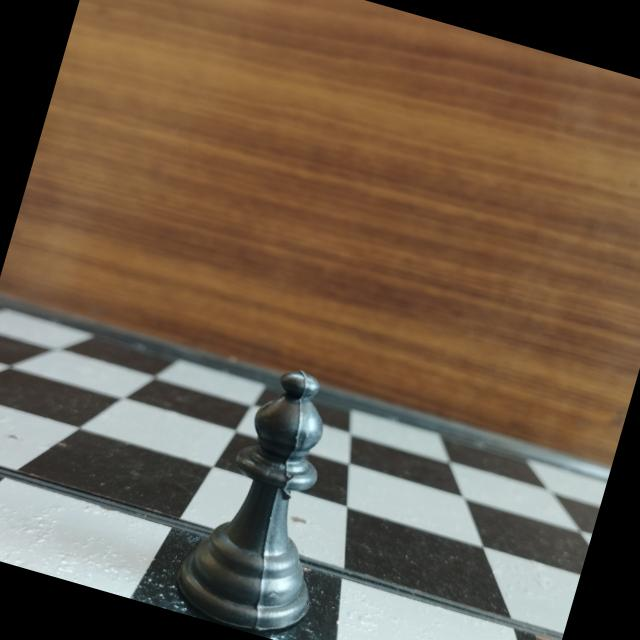Black Bishop: (160, 342, 383, 640)
